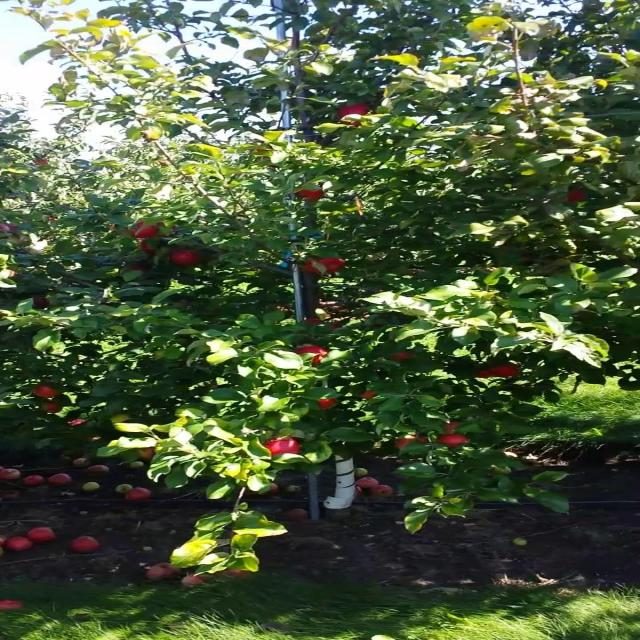apple: (262, 440, 304, 457), (305, 260, 347, 275), (127, 224, 165, 240), (340, 104, 370, 123), (305, 316, 341, 331), (298, 348, 331, 364), (490, 364, 521, 379), (170, 252, 199, 266), (397, 436, 428, 449), (440, 436, 469, 449), (35, 384, 59, 399), (298, 192, 327, 203), (568, 188, 588, 203), (319, 400, 340, 411), (141, 240, 156, 255), (390, 352, 414, 361), (447, 420, 462, 432), (35, 296, 50, 308), (141, 448, 156, 460), (42, 404, 64, 412), (127, 264, 148, 272), (476, 372, 494, 380), (362, 392, 377, 400), (6, 224, 20, 232)
